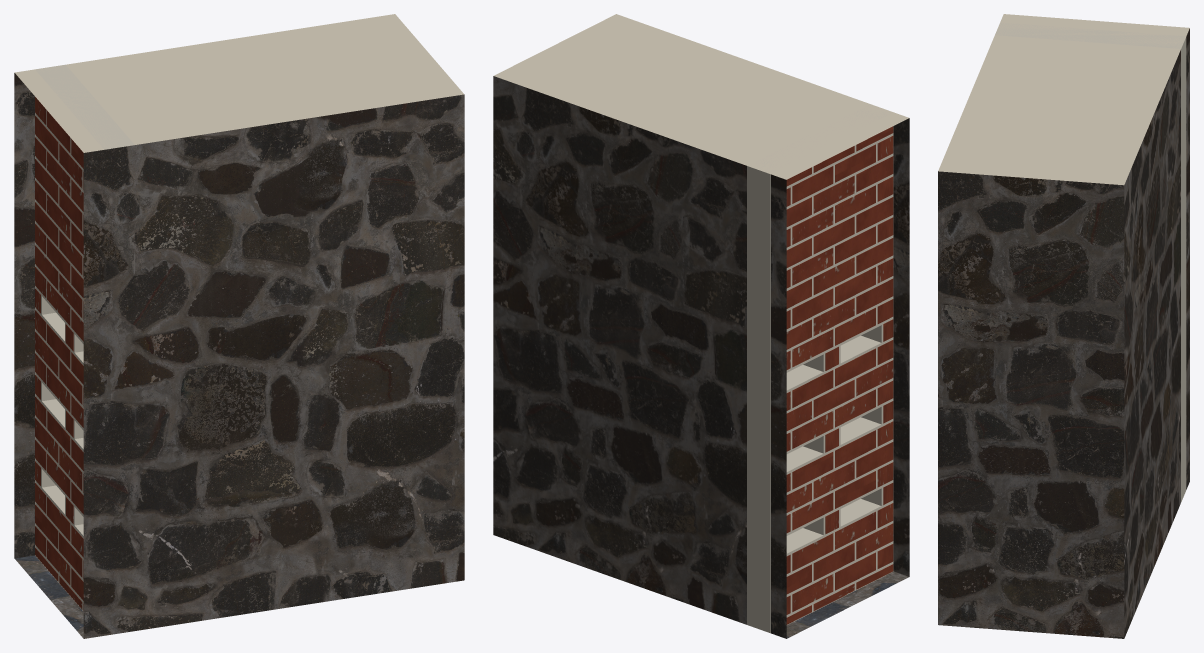
Rendered from komero.glb.
3 views of the same model, side by side, from view 1: azimuth 30°, elevation 25°; view 2: azimuth 150°, elevation 25°; view 3: azimuth 270°, elevation 25° (orthographic). The views are drawn at different scales.
Parts seen in each view (by area): view 1: komero_architecture, komero_tiilitatto; view 2: komero_architecture, komero_tiilitatto; view 3: komero_architecture, komero_tiilitatto.
Part boxes in pixels (left/top/right/bottom): komero_architecture: left=14, top=14, right=464, bottom=638; komero_tiilitatto: left=35, top=64, right=134, bottom=611; komero_architecture: left=493, top=14, right=909, bottom=638; komero_tiilitatto: left=747, top=104, right=893, bottom=633; komero_architecture: left=938, top=14, right=1189, bottom=638; komero_tiilitatto: left=995, top=22, right=1186, bottom=502.
Size of the model in its own units: 1.82 by 2.25 by 1.13.
Materials: 5 (3 with a texture image).
